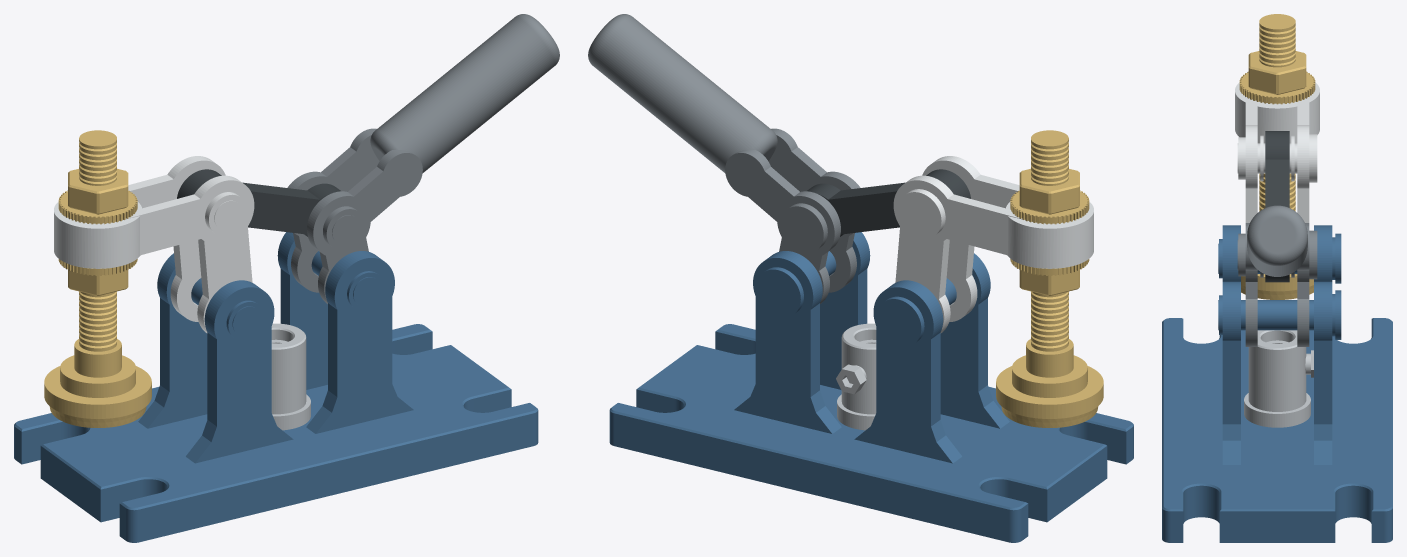
File: cad_v2_02.glb
The picture shows the model from 3 angles, left to right: view 1: azimuth 30°, elevation 25°; view 2: azimuth 150°, elevation 25°; view 3: azimuth 270°, elevation 25°; orthographic projection. The views are drawn at different scales.
Parts seen in each view (by area): view 1: 01_base_plate, 05_operating_handle, 03_front_pressure_arm, 06_spindle_assembly, 02_guide_bushing_seat, 04_intermediate_link; view 2: 01_base_plate, 05_operating_handle, 03_front_pressure_arm, 06_spindle_assembly, 02_guide_bushing_seat, 04_intermediate_link; view 3: 01_base_plate, 05_operating_handle, 03_front_pressure_arm, 06_spindle_assembly, 02_guide_bushing_seat, 04_intermediate_link.
Boxes of the visible parts, x1=… form: 01_base_plate: x1=14, y1=232, x2=538, y2=542; 05_operating_handle: x1=287, y1=14, x2=559, y2=303; 03_front_pressure_arm: x1=54, y1=156, x2=254, y2=333; 06_spindle_assembly: x1=44, y1=130, x2=151, y2=427; 02_guide_bushing_seat: x1=271, y1=323, x2=310, y2=430; 04_intermediate_link: x1=177, y1=169, x2=340, y2=236; 01_base_plate: x1=609, y1=232, x2=1133, y2=542; 05_operating_handle: x1=588, y1=14, x2=860, y2=303; 03_front_pressure_arm: x1=893, y1=156, x2=1093, y2=333; 06_spindle_assembly: x1=996, y1=130, x2=1103, y2=427; 02_guide_bushing_seat: x1=836, y1=323, x2=876, y2=430; 04_intermediate_link: x1=807, y1=169, x2=970, y2=236; 01_base_plate: x1=1162, y1=225, x2=1392, y2=542; 05_operating_handle: x1=1237, y1=205, x2=1317, y2=346; 03_front_pressure_arm: x1=1235, y1=82, x2=1319, y2=222; 06_spindle_assembly: x1=1239, y1=14, x2=1315, y2=299; 02_guide_bushing_seat: x1=1244, y1=330, x2=1313, y2=427; 04_intermediate_link: x1=1265, y1=131, x2=1289, y2=282.
Bounding box in the file's own units: 0.1833 × 0.1299 × 0.076.
